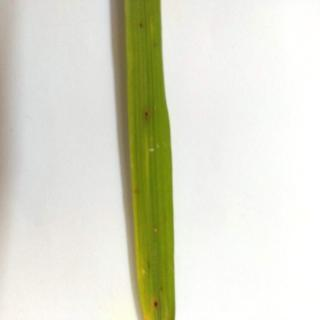bercak-Cokelat: (141, 106, 153, 122), (138, 20, 148, 33), (152, 298, 160, 312)
